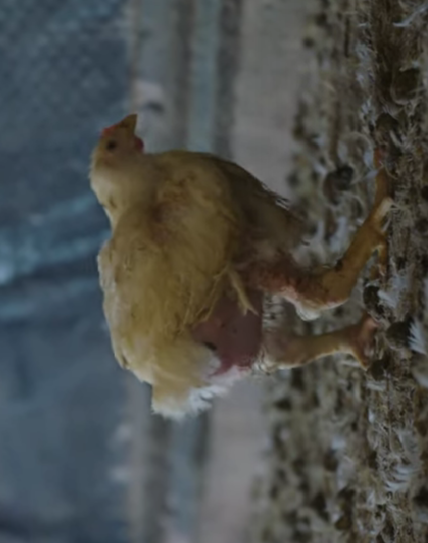Unhealthy: (70, 107, 379, 416)
